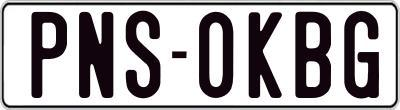0: (198, 12, 234, 101)
B: (293, 10, 335, 99)
G: (343, 10, 383, 99)
K: (248, 10, 285, 101)
N: (79, 11, 116, 97)
P: (29, 11, 70, 101)
S: (124, 8, 158, 96)
